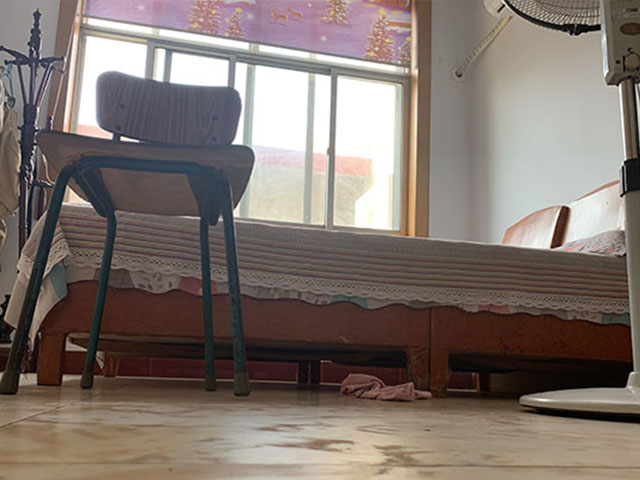bed: (2, 176, 624, 398)
socks: (338, 372, 433, 401)
stool: (5, 72, 256, 398)
